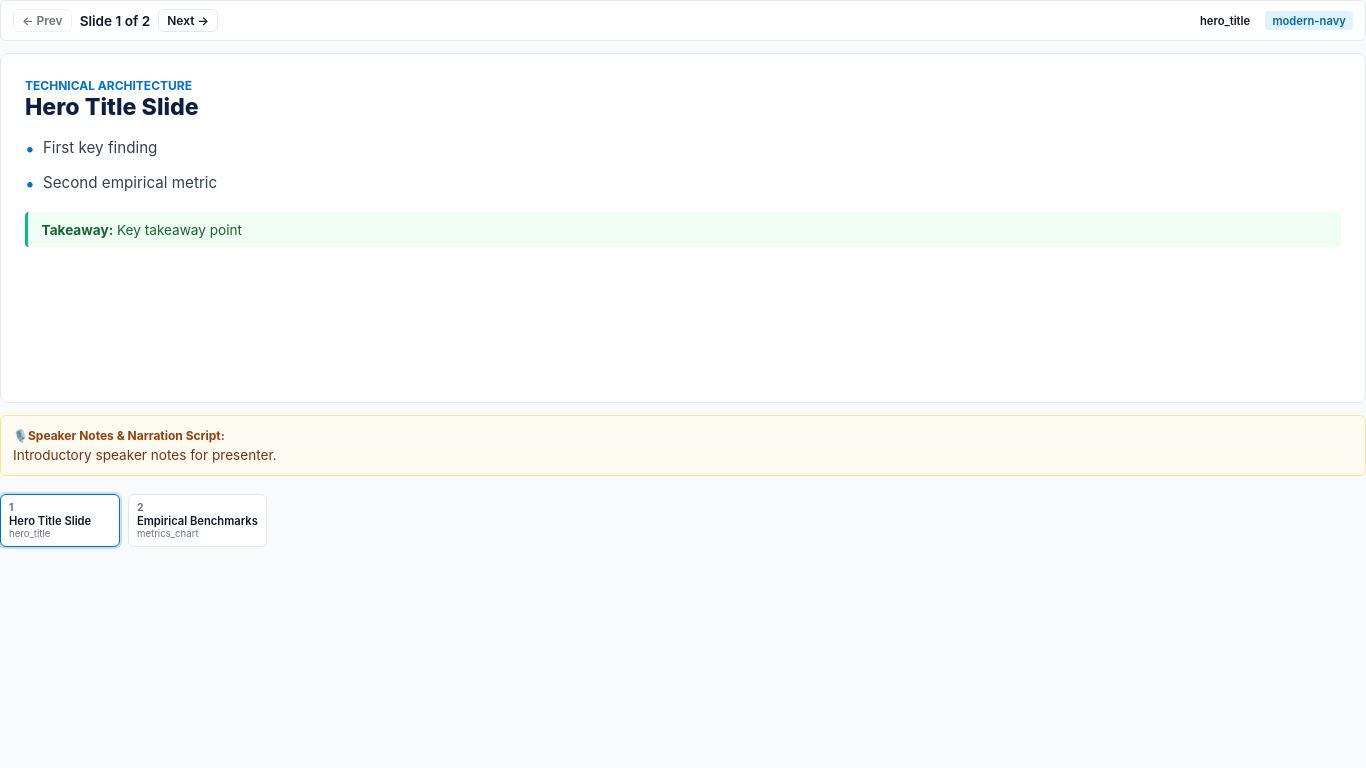
Test: SlideViewer Component › renders slide title, bullets, speaker notes, and navigates between slides
The width and height of the screenshot is (1366, 768).
Expected: the heading "Hero Title Slide" is shown, x1=25 y1=93 x2=199 y2=121
Expected: the text "First key finding" is shown, x1=43 y1=137 x2=157 y2=162
Click Next slide
Click the button "Next →". click: (188, 21)
box: x1=158 y1=9 x2=218 y2=32
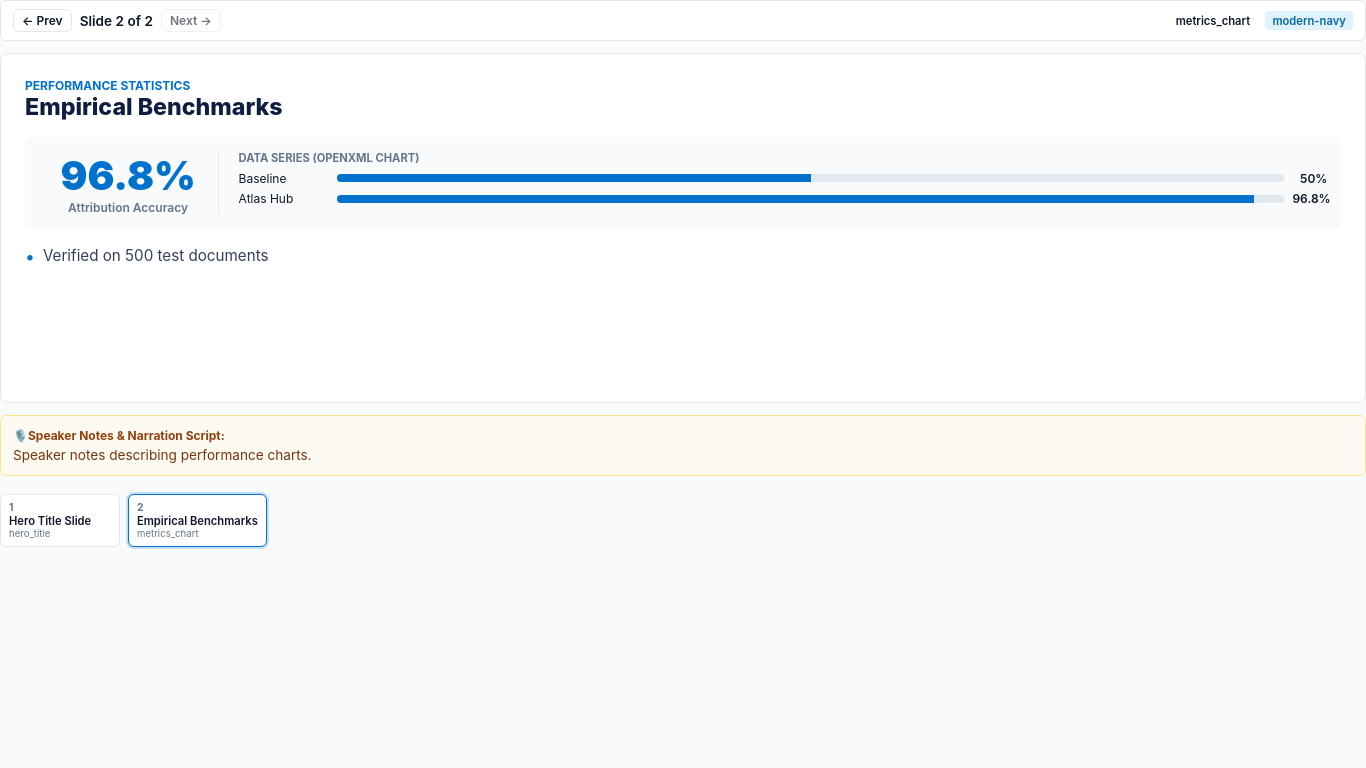
Expected: the heading "Empirical Benchmarks" is shown, x1=25 y1=93 x2=282 y2=121
Expected: the 1st text "96.8%" is shown, x1=60 y1=151 x2=196 y2=200
Expected: the text "Attribution Accuracy" is shown, x1=68 y1=200 x2=188 y2=215
